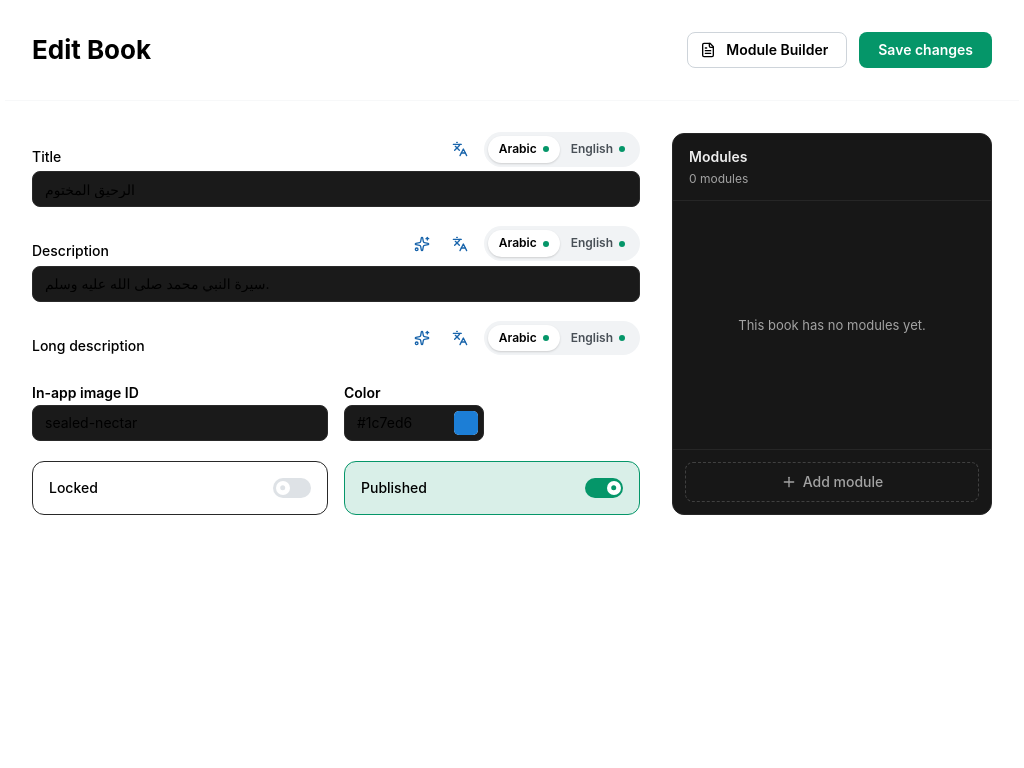
Test: EditBookPage › stays on the form and surfaces the failure when saving fails
Click the button "Save changes". click: (926, 50)
box: top-left (859, 32), bottom-right (992, 68)
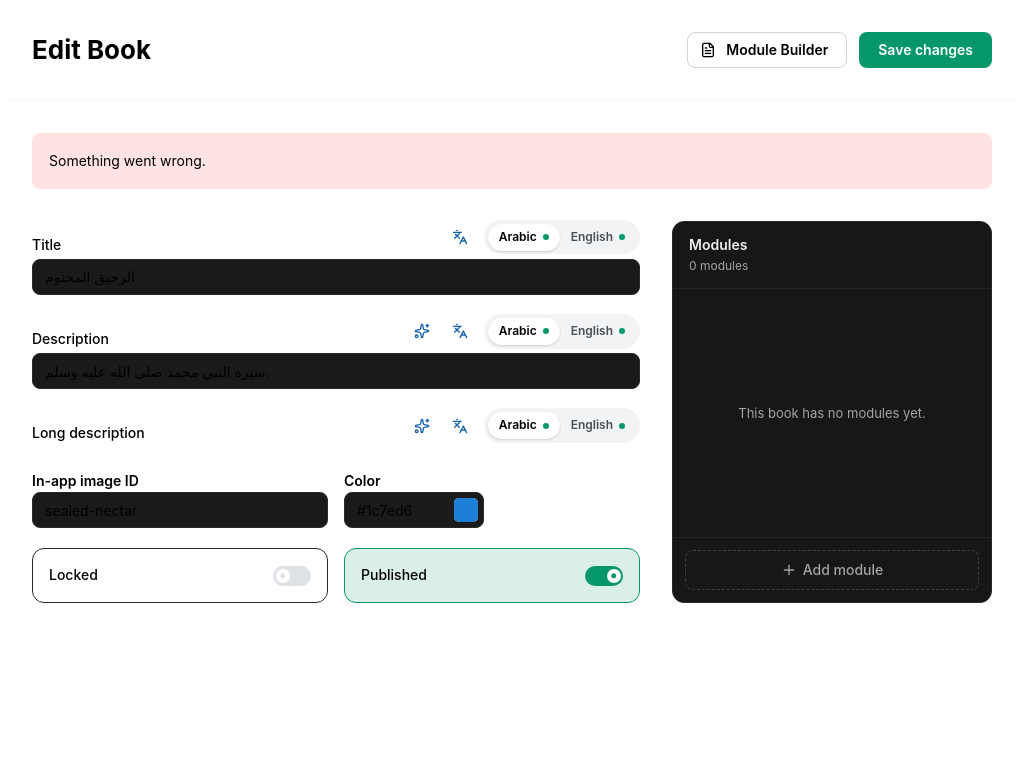
expect the text "Something went wrong." is shown: met, box top-left (49, 152), bottom-right (206, 169)
